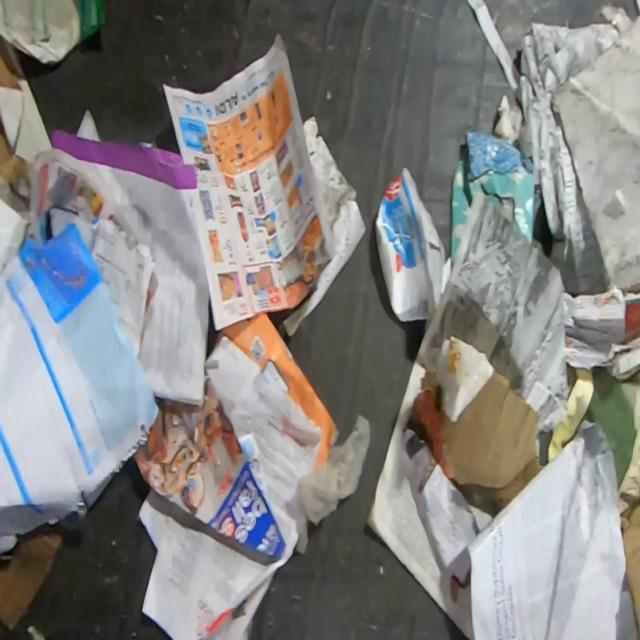cardboard: (441, 369, 544, 510), (449, 128, 542, 264), (0, 34, 54, 201), (618, 490, 640, 639)
rigid_plastic: (374, 164, 454, 323)
